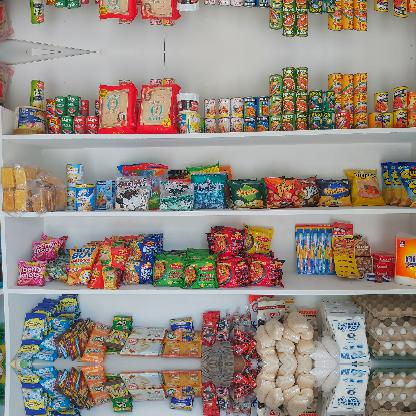Lady-s-Choice: (12, 105, 46, 133)
